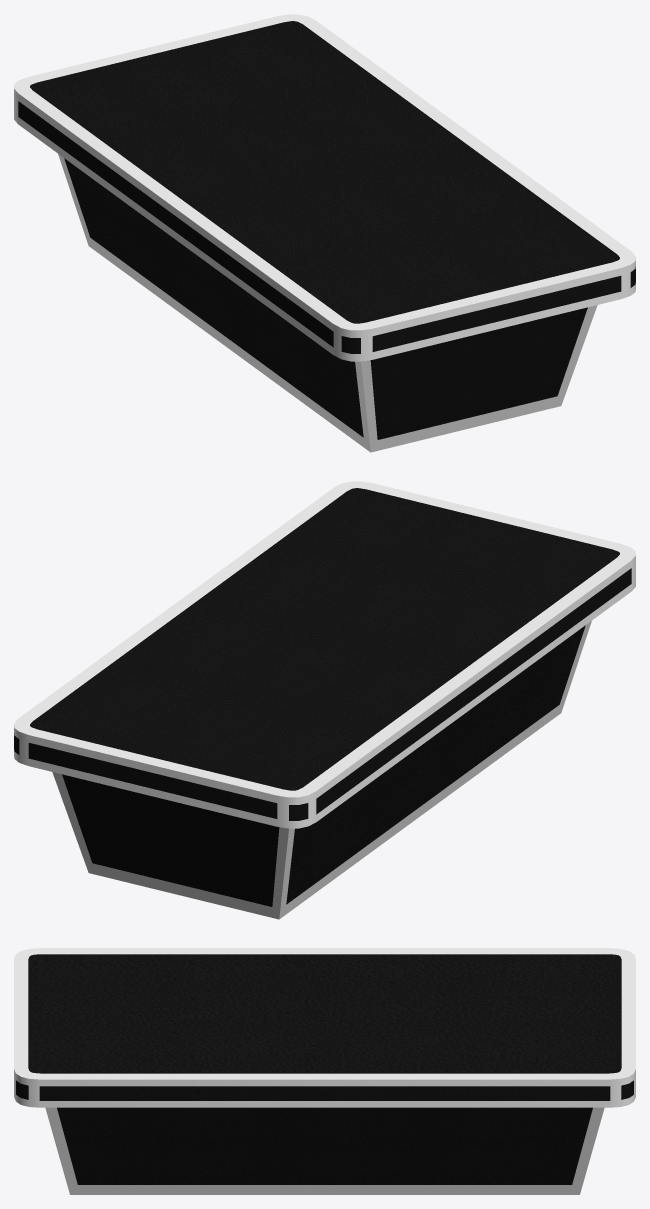
Rendered from OfficeTable.FBX.
3 renders of one model, top to bottom at view 1: azimuth 30°, elevation 25°; view 2: azimuth 150°, elevation 25°; view 3: azimuth 270°, elevation 25°, orthographic. The views are drawn at different scales.
Visible parts, largest first — view 1: OfficeTable; view 2: OfficeTable; view 3: OfficeTable.
Boxes of the visible parts, left/top/right/bottom form: OfficeTable: left=14, top=14, right=635, bottom=452; OfficeTable: left=14, top=481, right=635, bottom=919; OfficeTable: left=14, top=948, right=635, bottom=1194.
Bounding box in the file's own units: 78.74 × 38.81 × 157.
